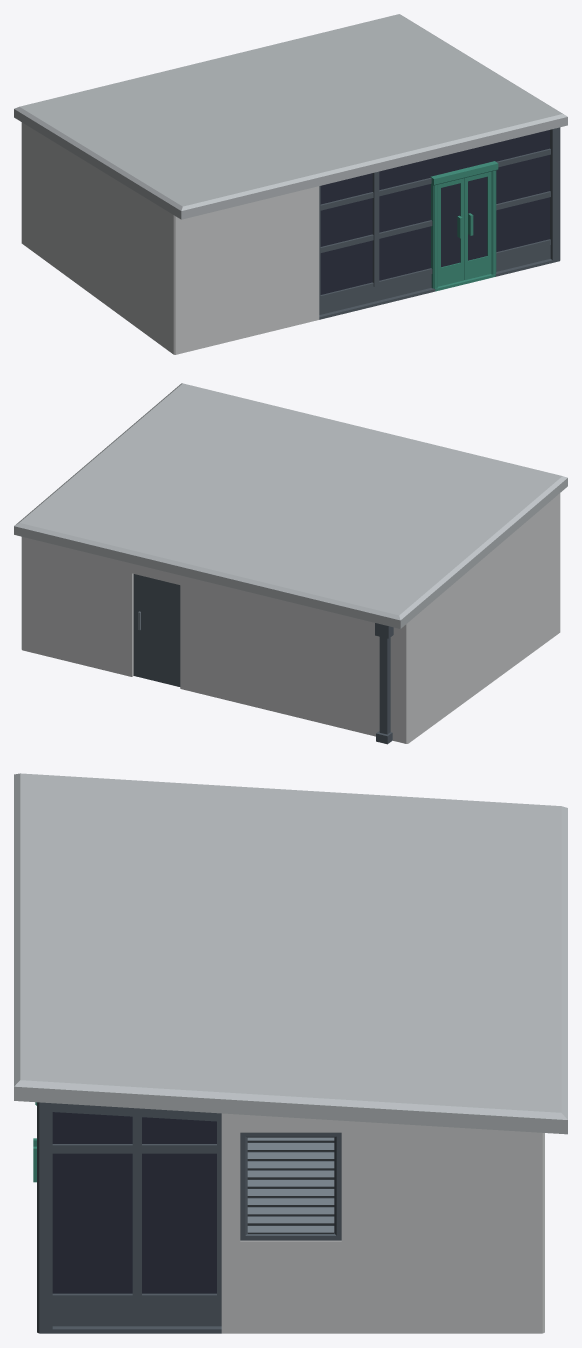
The model's file is clinic-annexe-0f56d1.glb.
3 renders of one model, top to bottom at view 1: azimuth 30°, elevation 25°; view 2: azimuth 150°, elevation 25°; view 3: azimuth 270°, elevation 25°, orthographic. The views are drawn at different scales.
Visible parts, largest first — view 1: clinic-annexe, door-l, door-r; view 2: clinic-annexe; view 3: clinic-annexe.
Part boxes in pixels (x1=…): clinic-annexe: x1=14, y1=14, x2=567, y2=354; door-l: x1=437, y1=178, x2=464, y2=286; door-r: x1=464, y1=171, x2=491, y2=279; clinic-annexe: x1=14, y1=383, x2=567, y2=744; clinic-annexe: x1=14, y1=773, x2=567, y2=1333.
Bounding box in the file's own units: 8 × 3 × 6.
